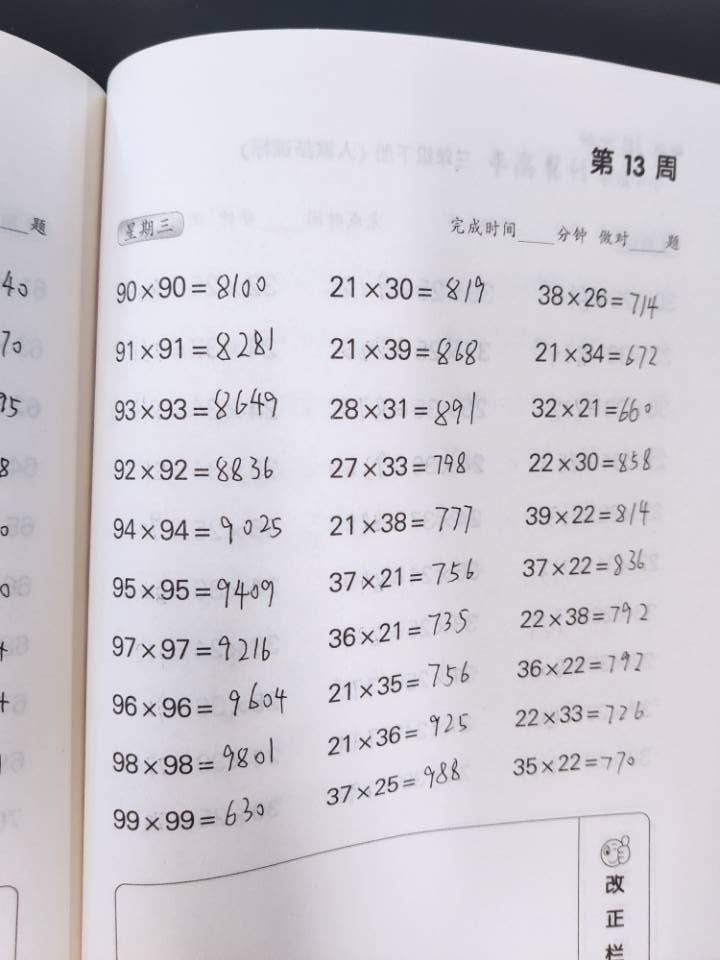equation: (568, 283, 612, 548), (531, 287, 571, 555), (493, 299, 532, 559), (426, 556, 458, 823), (455, 281, 487, 548), (552, 560, 584, 827), (376, 271, 408, 537), (339, 561, 370, 828), (419, 268, 450, 535), (595, 564, 626, 831), (290, 551, 321, 817), (381, 551, 412, 817), (511, 555, 542, 821), (328, 65, 364, 284), (482, 65, 518, 284), (517, 72, 553, 291), (197, 589, 232, 808), (290, 316, 325, 535), (198, 309, 233, 528), (331, 312, 366, 531), (469, 597, 504, 816), (244, 597, 279, 816), (247, 56, 282, 275), (409, 60, 444, 279), (291, 49, 326, 268), (447, 61, 482, 280), (559, 72, 594, 291), (244, 319, 279, 537), (209, 47, 244, 265), (371, 59, 406, 277)
